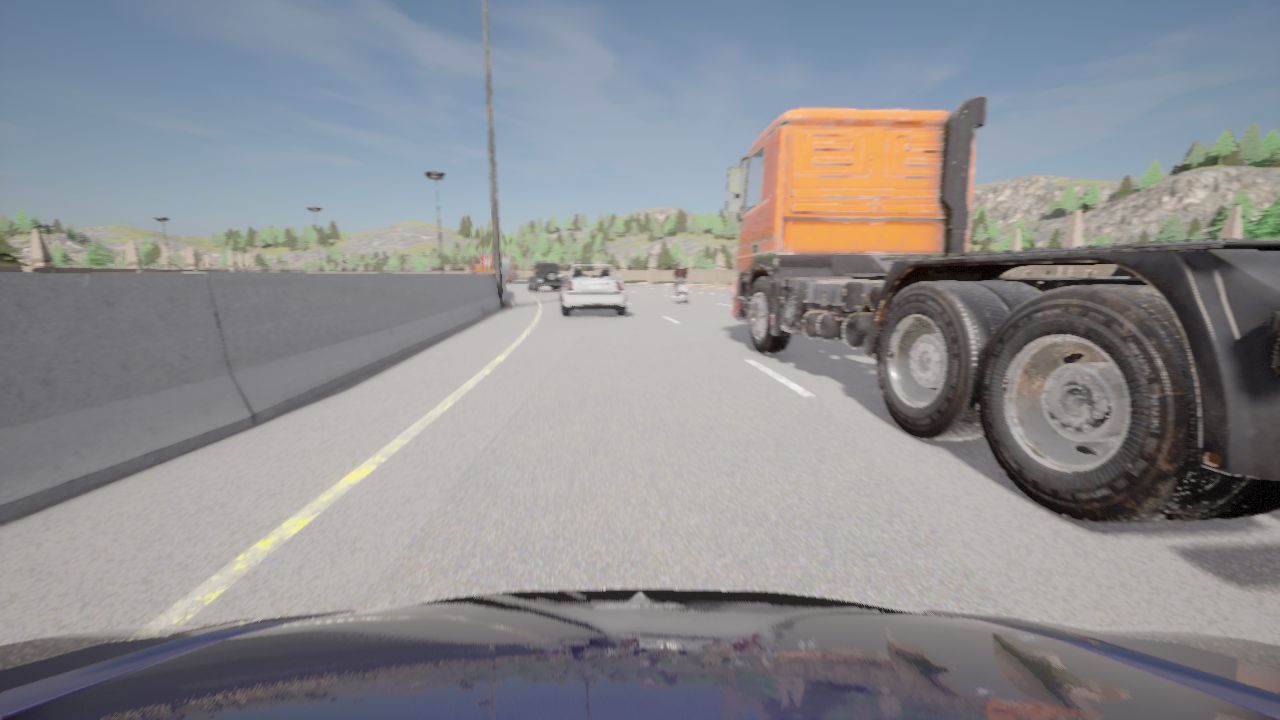cyclist: (725, 96, 1279, 523), (0, 588, 1279, 719), (558, 264, 627, 316), (468, 251, 517, 282), (528, 263, 561, 291), (673, 279, 685, 303)
